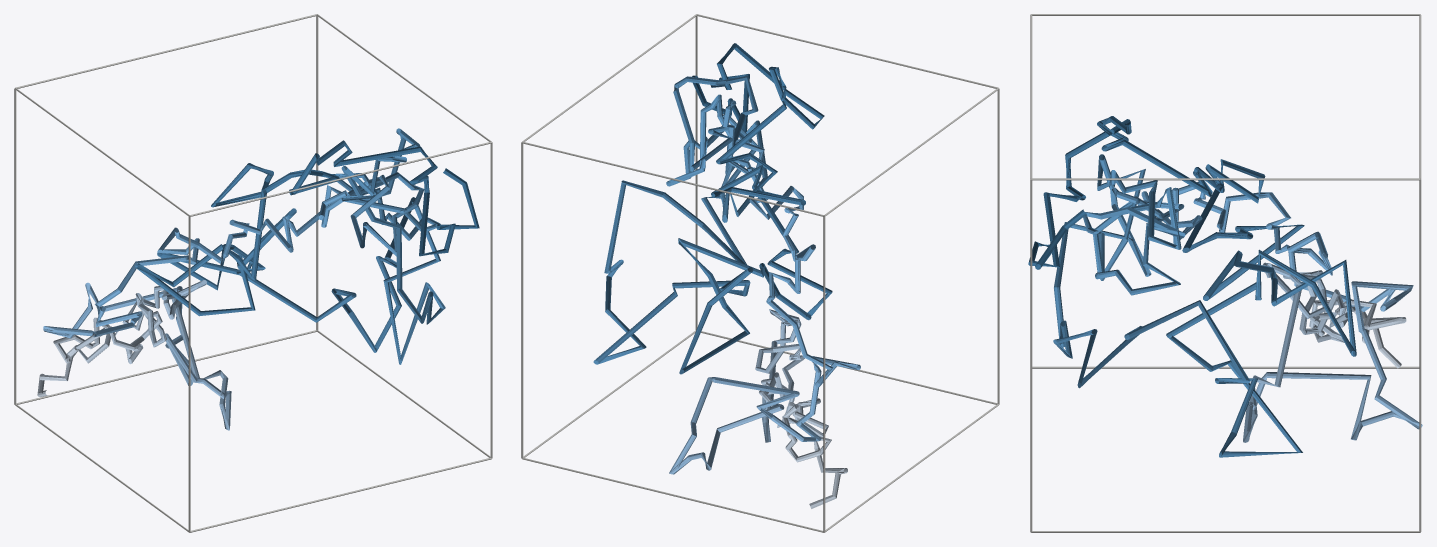
3 views of the same model, side by side, from view 1: azimuth 30°, elevation 25°; view 2: azimuth 150°, elevation 25°; view 3: azimuth 270°, elevation 25° (orthographic). The views are drawn at different scales.
Visible parts, largest first — view 1: geometry_0, geometry_1; view 2: geometry_0, geometry_1; view 3: geometry_0, geometry_1.
Part boxes in pixels (left/top/right/bottom): geometry_0: left=37, top=128, right=479, bottom=430; geometry_1: left=14, top=14, right=492, bottom=532; geometry_0: left=593, top=43, right=860, bottom=508; geometry_1: left=521, top=14, right=999, bottom=532; geometry_0: left=1028, top=116, right=1422, bottom=457; geometry_1: left=1030, top=14, right=1421, bottom=532.
Size of the model in its own units: 0.3016 by 0.3032 by 0.3041.
